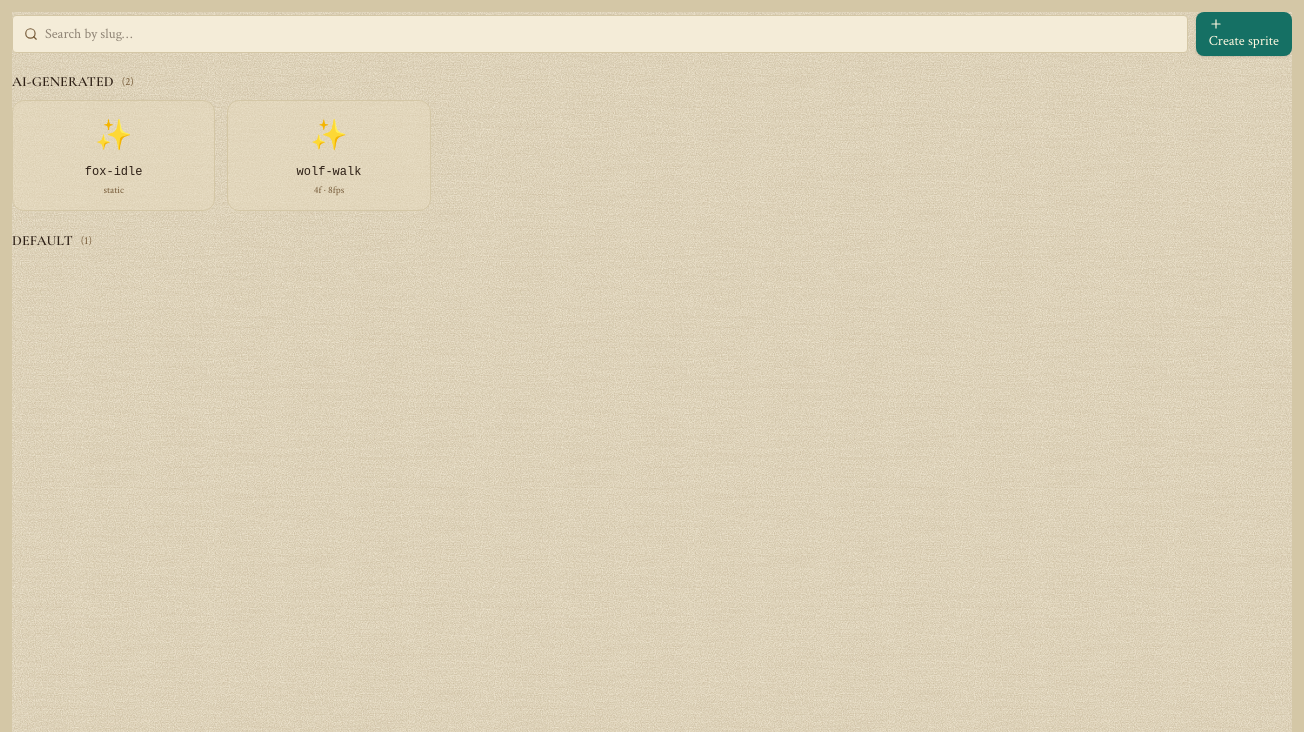
Test case: SpritesBlock › filters by slug substring via the search box
Type "wolf" into the search field named "search sprites by slug" at (600, 34), box [12, 15, 1188, 53]
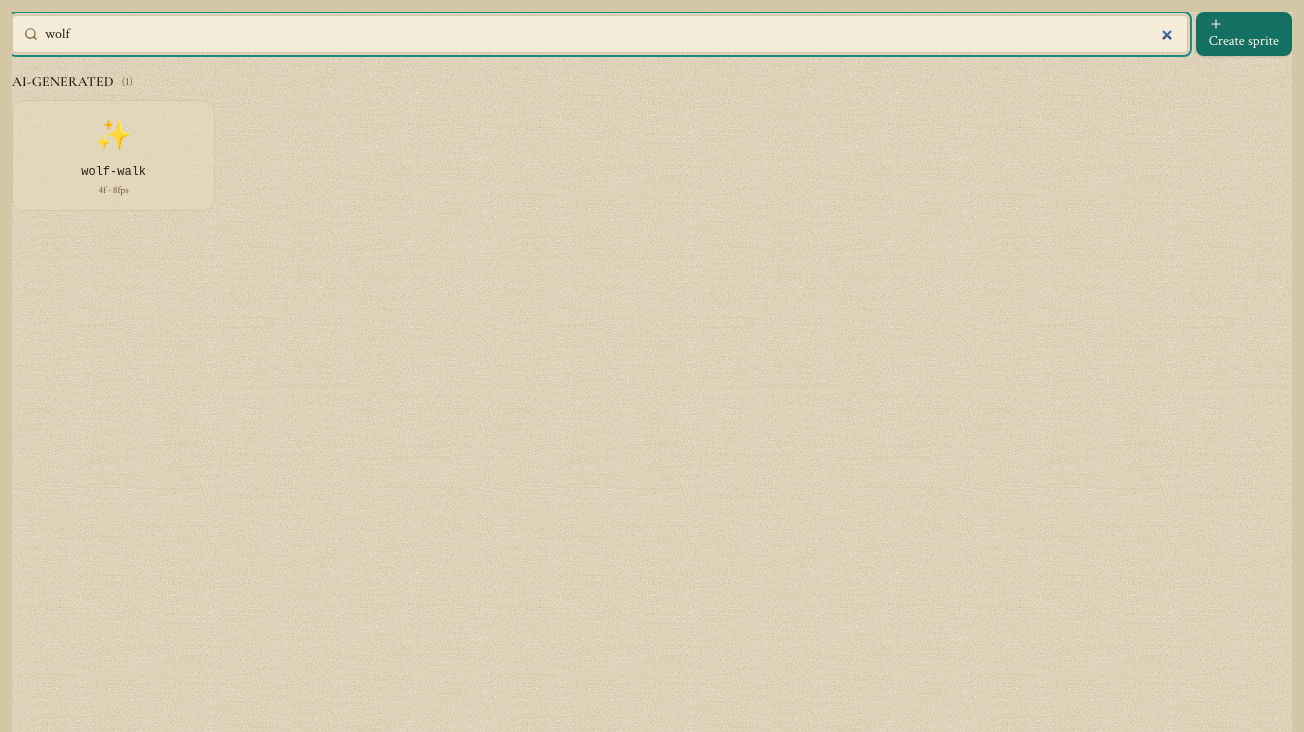
Expected: the text "wolf-walk" is shown, [81, 165, 146, 179]
Expected: the button "fox-idle" is gone
